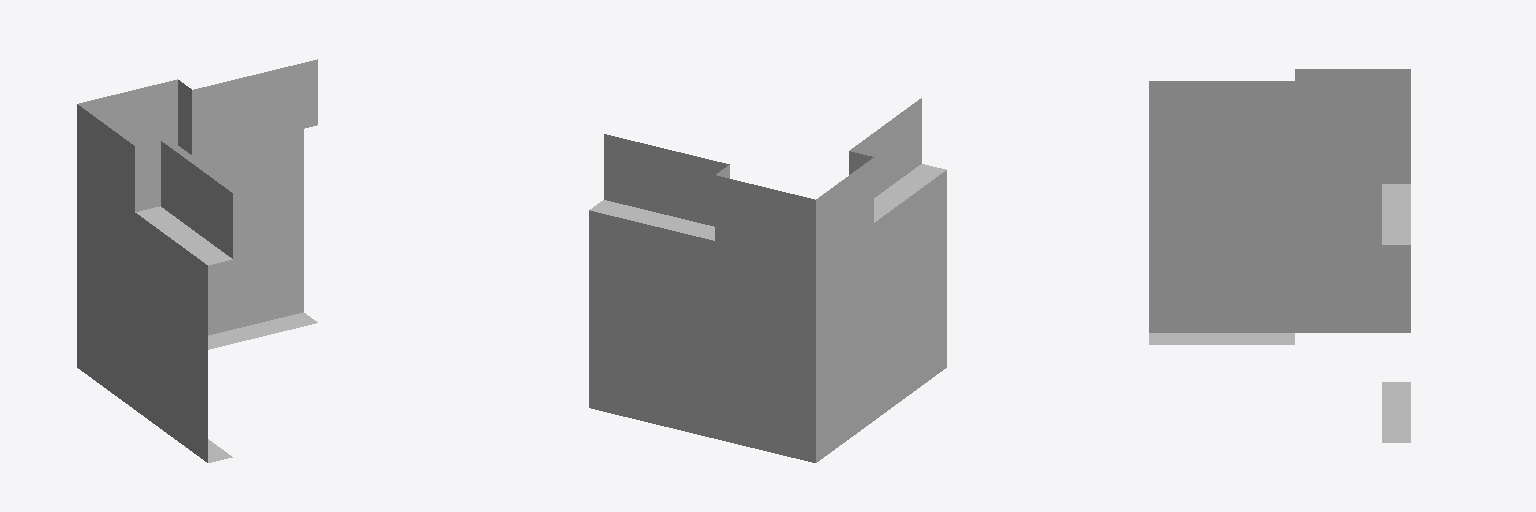
The model's file is Outer_Corner_Wall.obj.
3 views of the same model, side by side, from view 1: azimuth 30°, elevation 25°; view 2: azimuth 150°, elevation 25°; view 3: azimuth 270°, elevation 25° (orthographic).
Parts seen in each view (by area): view 1: Outer_Corner_Wall; view 2: Outer_Corner_Wall; view 3: Outer_Corner_Wall.
Part boxes in pixels (left/top/right/bottom): Outer_Corner_Wall: left=77, top=59, right=317, bottom=462; Outer_Corner_Wall: left=589, top=98, right=946, bottom=462; Outer_Corner_Wall: left=1149, top=69, right=1410, bottom=442.
Bounding box in the file's own units: 0.9 × 1 × 0.9.